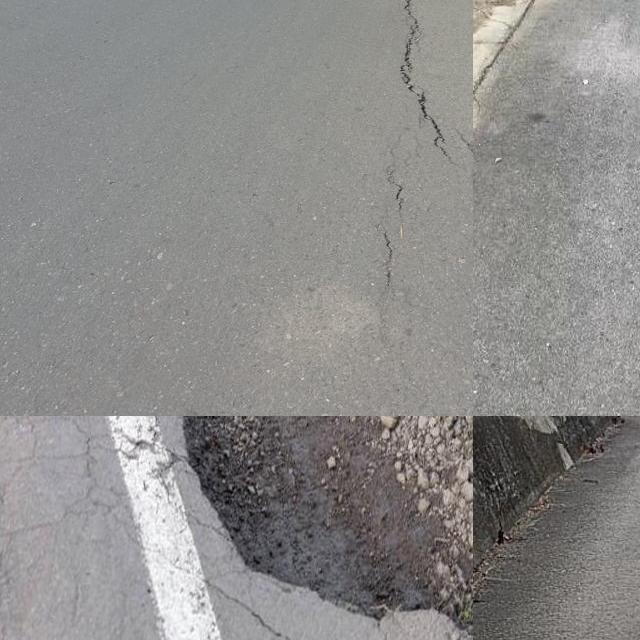Memanjang: (392, 0, 454, 163), (446, 129, 473, 207)
Pinggir: (168, 416, 473, 635)
